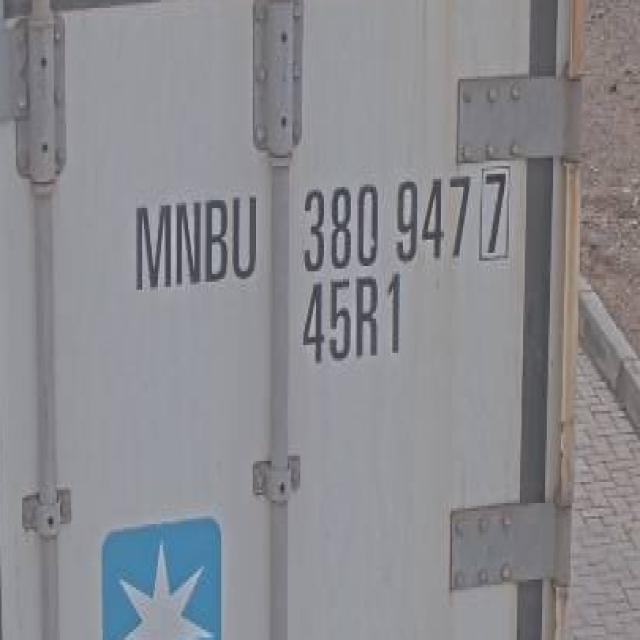dv: (476, 162, 515, 268)
owner: (126, 184, 264, 296)
serial: (293, 166, 473, 276)
size: (297, 274, 414, 369)
